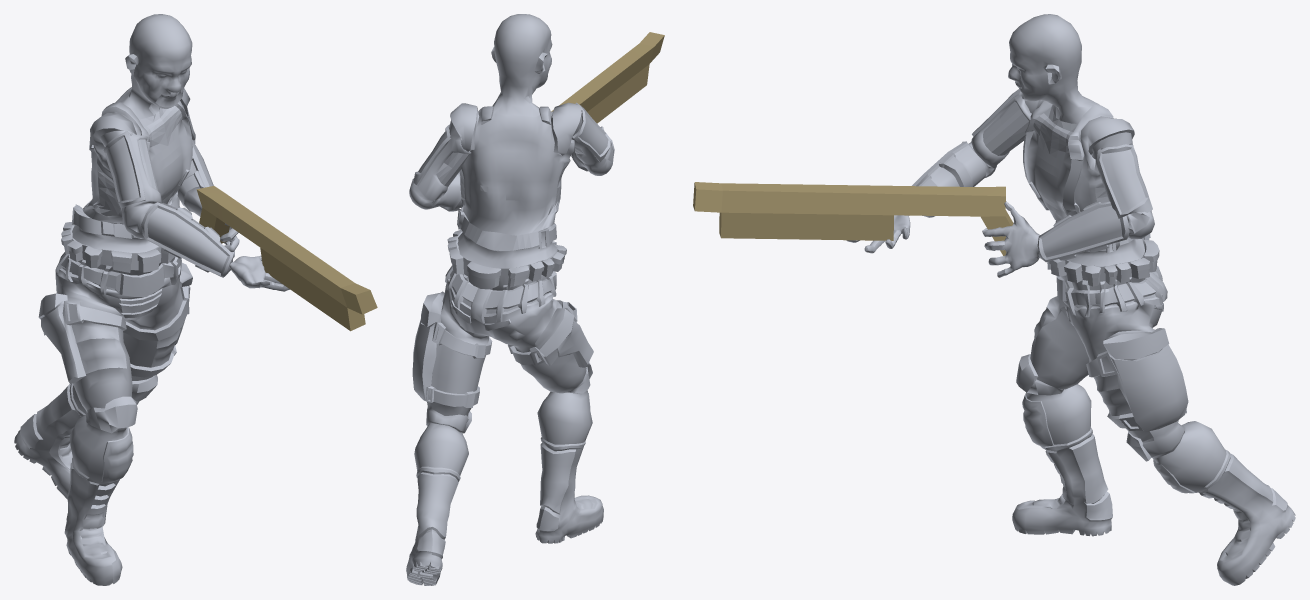
The model's file is GUNNER.FBX.
3 views of the same model, side by side, from view 1: azimuth 30°, elevation 25°; view 2: azimuth 150°, elevation 25°; view 3: azimuth 270°, elevation 25° (orthographic). The views are drawn at different scales.
Parts seen in each view (by area): view 1: helmet; view 2: helmet; view 3: helmet.
Part boxes in pixels (left/top/right/bottom): helmet: left=14, top=14, right=377, bottom=585; helmet: left=406, top=14, right=664, bottom=585; helmet: left=693, top=14, right=1295, bottom=585.
Size of the model in its own units: 51.64 by 173 by 169.
